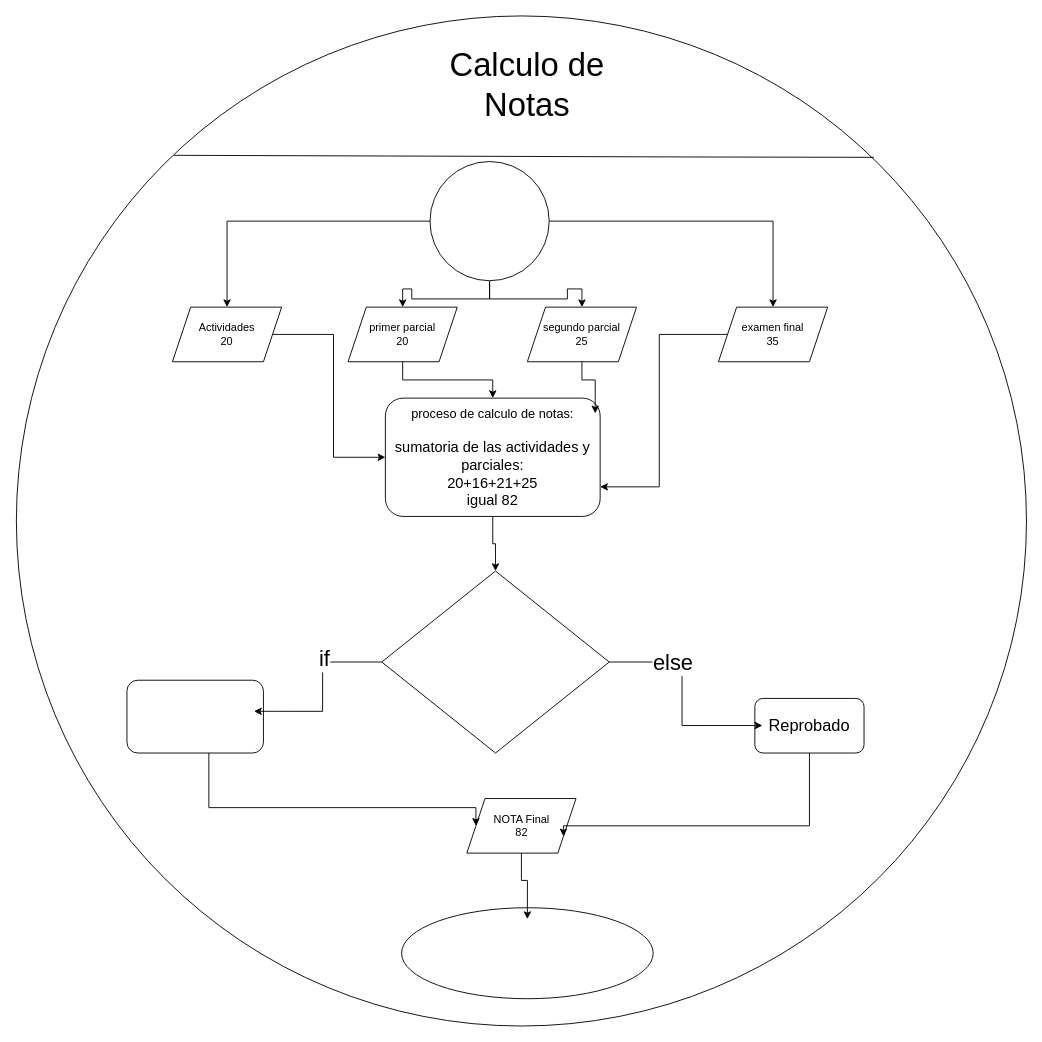
The diagram is 1042 pixels wide and 1042 high, and some of its shapes have lost their labels. Each missing label, with the centre of its shape:
Aprobado >= notaAprobacion: the point at 194,716
Felicidades usted esta Aprobado: the point at 527,953
Ingreso de los datos del estudiante: the point at 489,221
toma de decisión: double nota Aprobación = 61;: the point at 495,661
